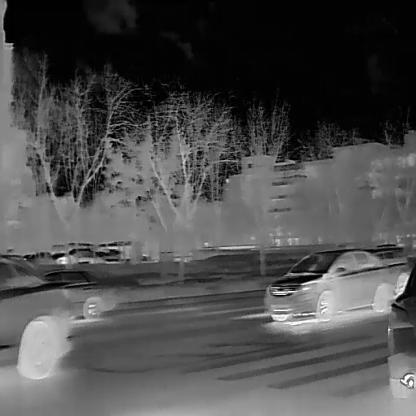car: (265, 247, 391, 322), (0, 253, 73, 378), (38, 268, 118, 325), (371, 243, 412, 297)
